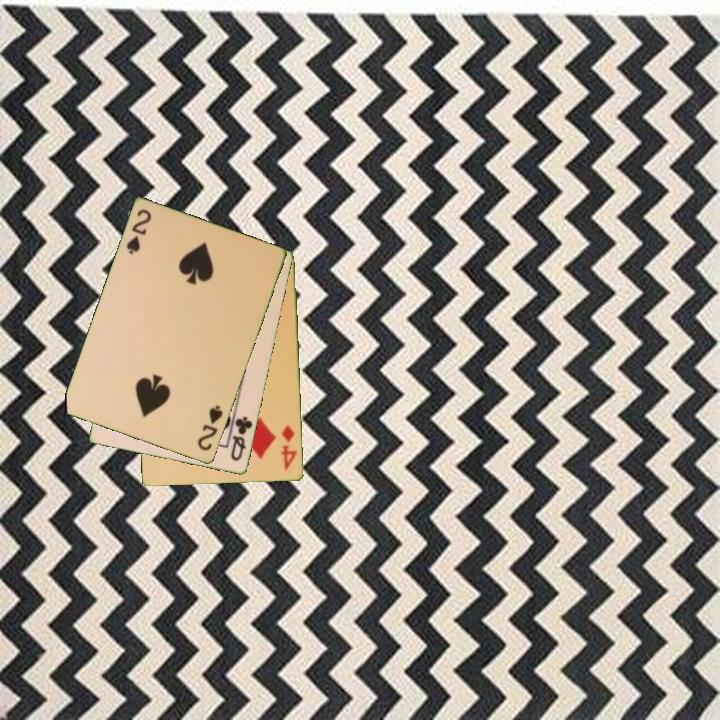2s: (194, 402, 226, 454), (123, 206, 154, 258)
4d: (278, 422, 300, 473)
Qc: (227, 410, 256, 464)
